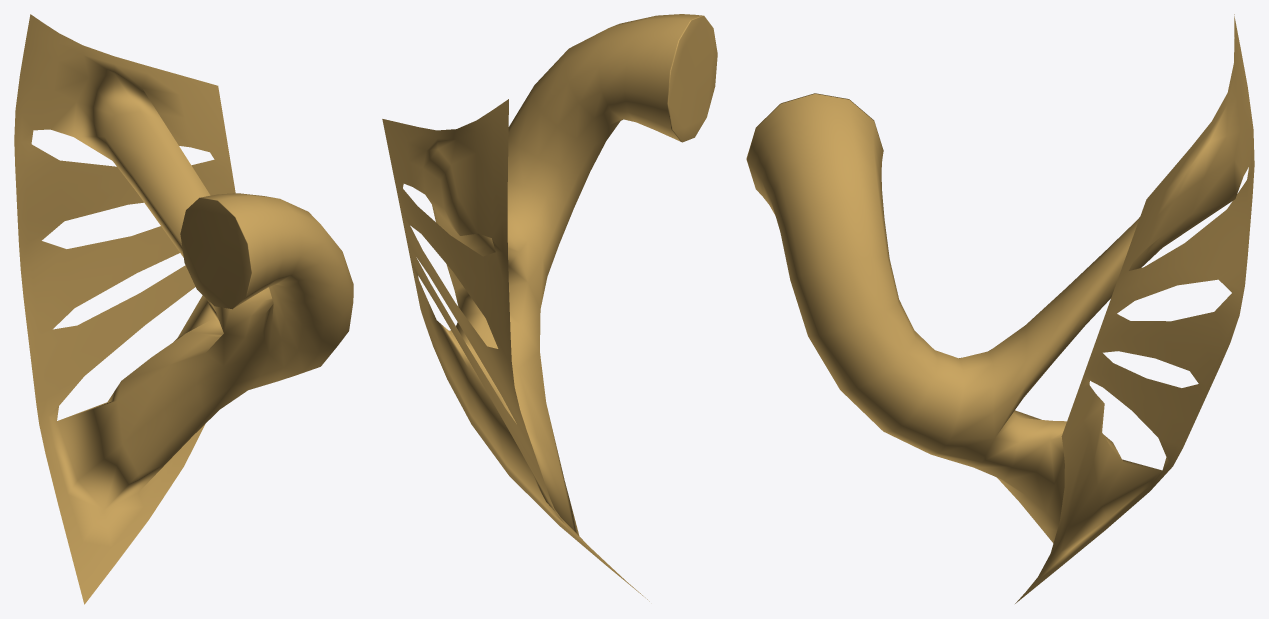
3 views of the same model, side by side, from view 1: azimuth 30°, elevation 25°; view 2: azimuth 150°, elevation 25°; view 3: azimuth 270°, elevation 25° (orthographic). The views are drawn at different scales.
Parts seen in each view (by area): view 1: 右侧股骨头韧带; view 2: 右侧股骨头韧带; view 3: 右侧股骨头韧带.
Boxes of the visible parts, <box> form: 右侧股骨头韧带: <box>14,14,353,604</box>; 右侧股骨头韧带: <box>382,14,717,601</box>; 右侧股骨头韧带: <box>746,14,1254,603</box>.
Bounding box in the file's own units: 0.0202 × 0.048 × 0.036.
